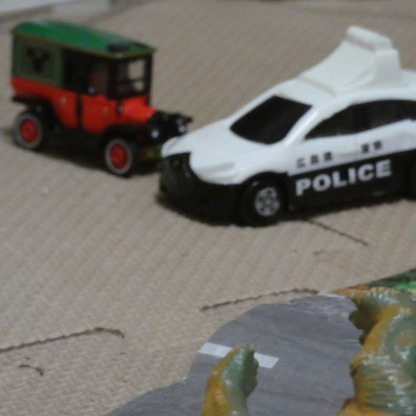car: (168, 20, 416, 226), (8, 19, 173, 176)
